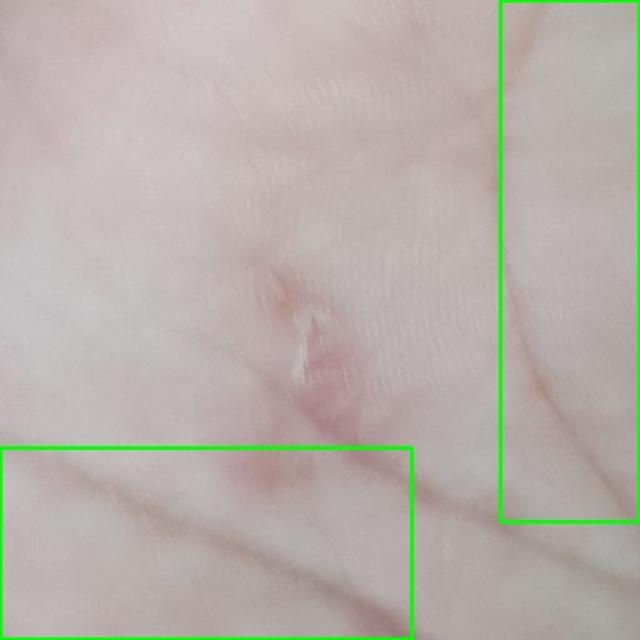Scabies: (0, 448, 411, 639), (500, 0, 639, 521)
